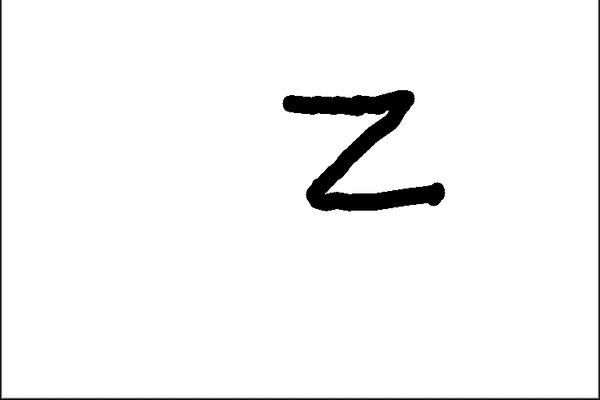Z: (270, 76, 443, 216)
